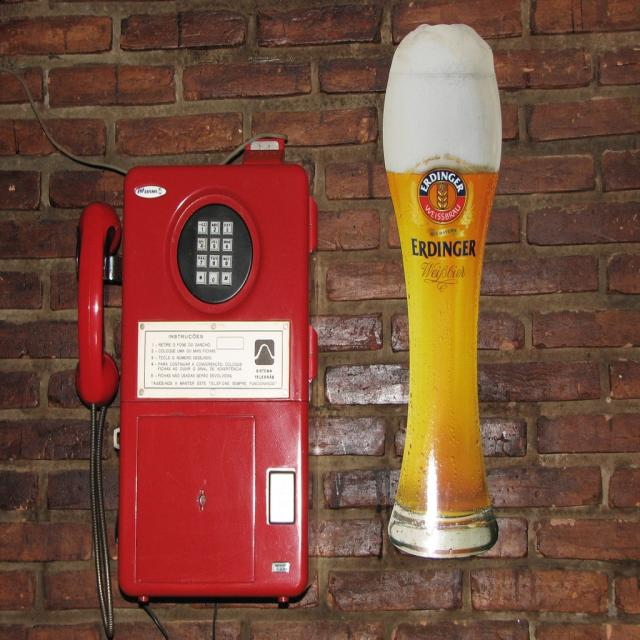erdinger: (405, 146, 483, 264)
